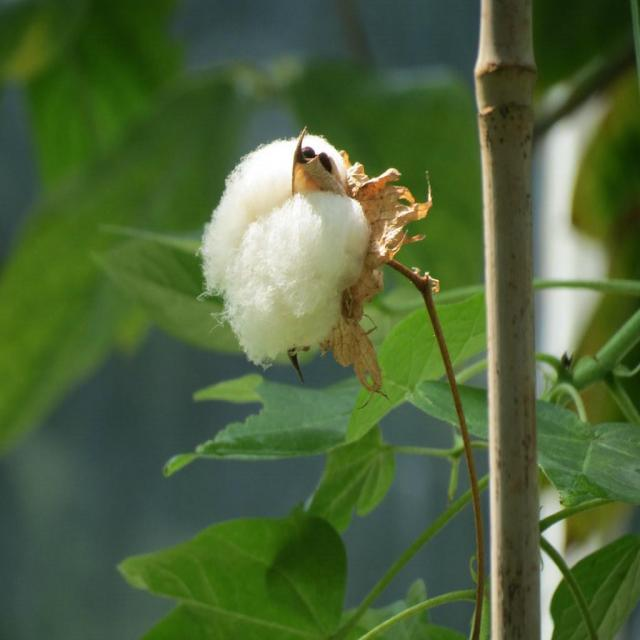Late_blight: (196, 132, 407, 372)
